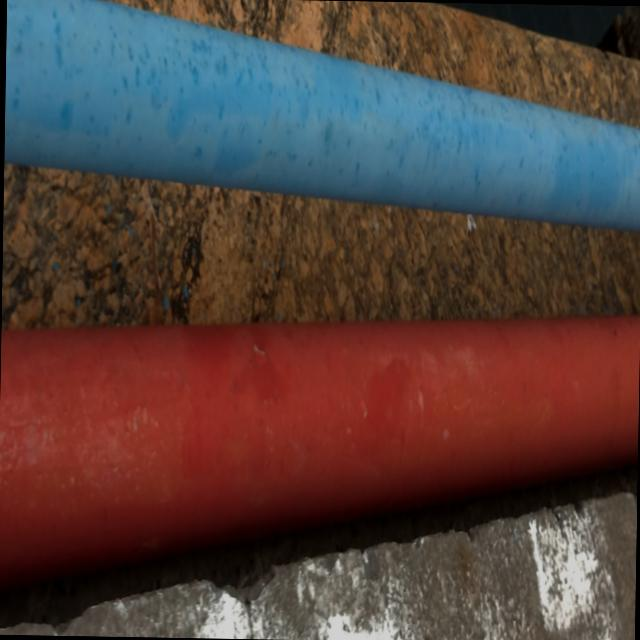gas: (0, 282, 640, 622), (1, 0, 640, 233)
